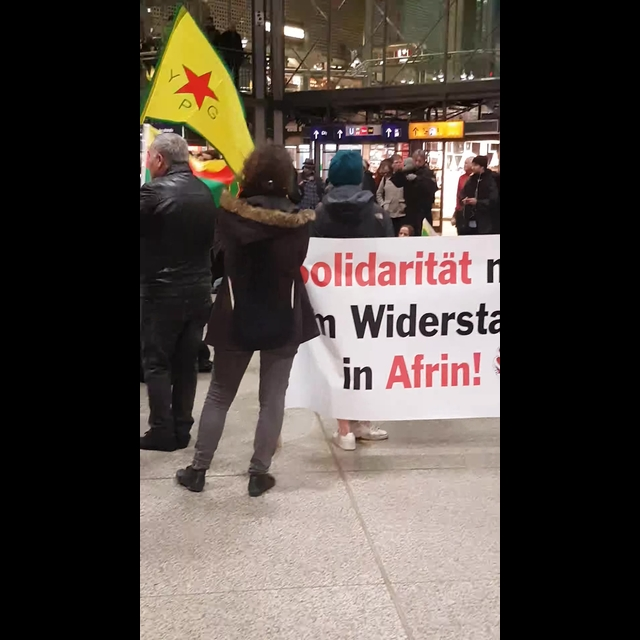YPG: (162, 57, 224, 122)
